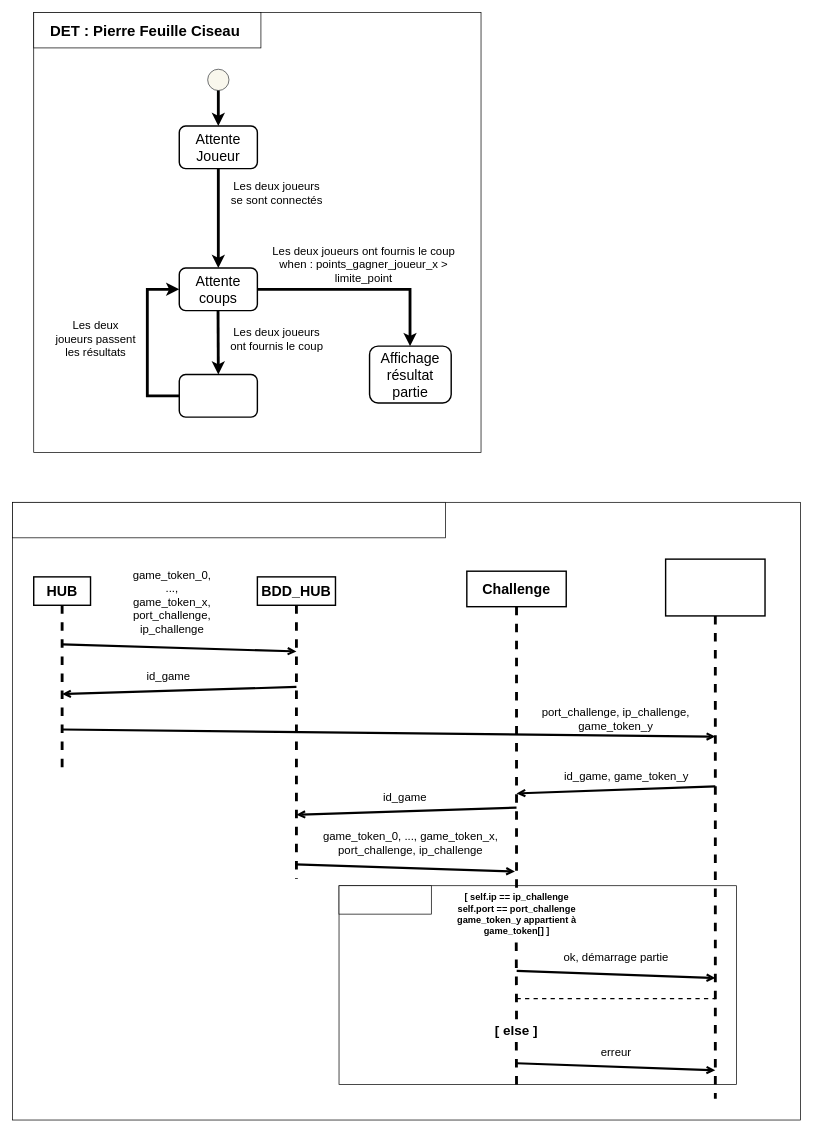
Image size: 813x1132. Some labels were removed from this diagram. Each missing label, with the centre of its shape:
"Alt" belongs at pixel 384 899.
"Joueur Y OU Interpréteur Y" belongs at pixel 715 587.
"Résultat tour" belongs at pixel 218 395.
"SQ : Mise en relation des joueurs au challenge" belongs at pixel 229 520.
